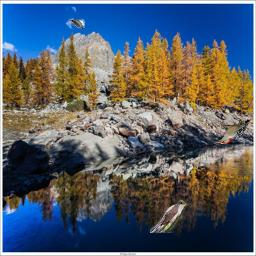Cuckoo: (150, 200, 187, 233), (70, 19, 85, 29)
Woodpecker: (211, 119, 251, 144)
